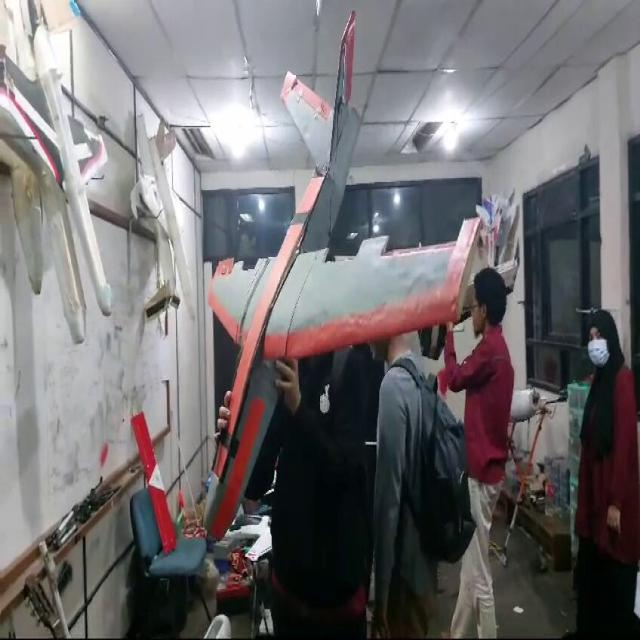plane: (202, 9, 520, 541)
